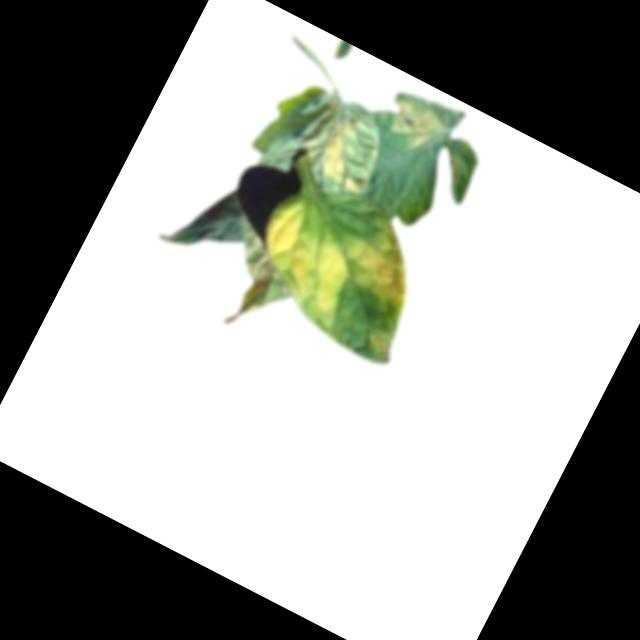Leaf_Mold: (234, 168, 445, 360), (291, 96, 394, 204), (383, 93, 451, 158)
